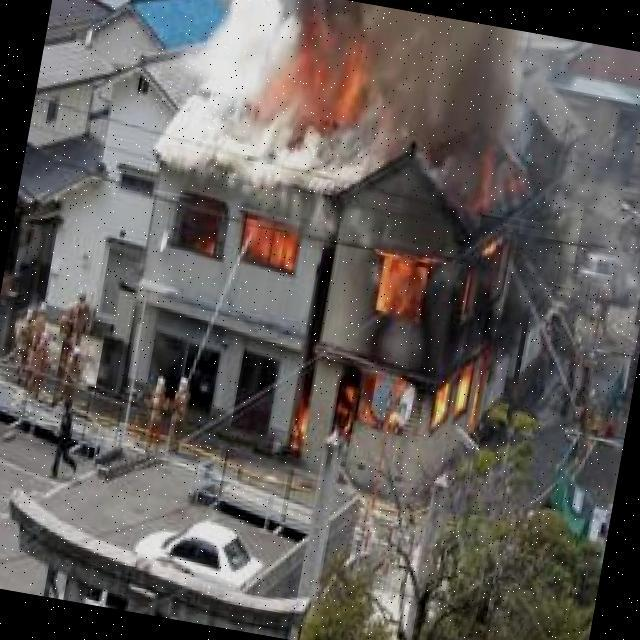Fire: (278, 147, 563, 497), (241, 1, 388, 141), (199, 207, 300, 274)
